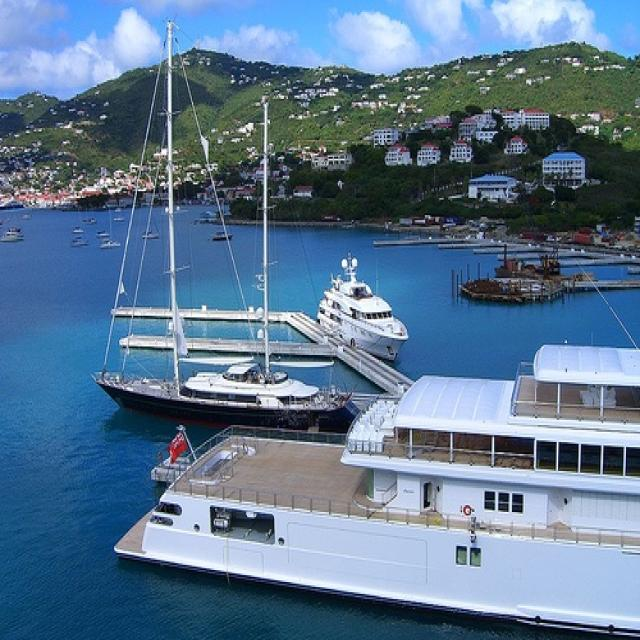boat: (112, 343, 640, 640), (94, 22, 366, 435), (319, 254, 411, 361)
